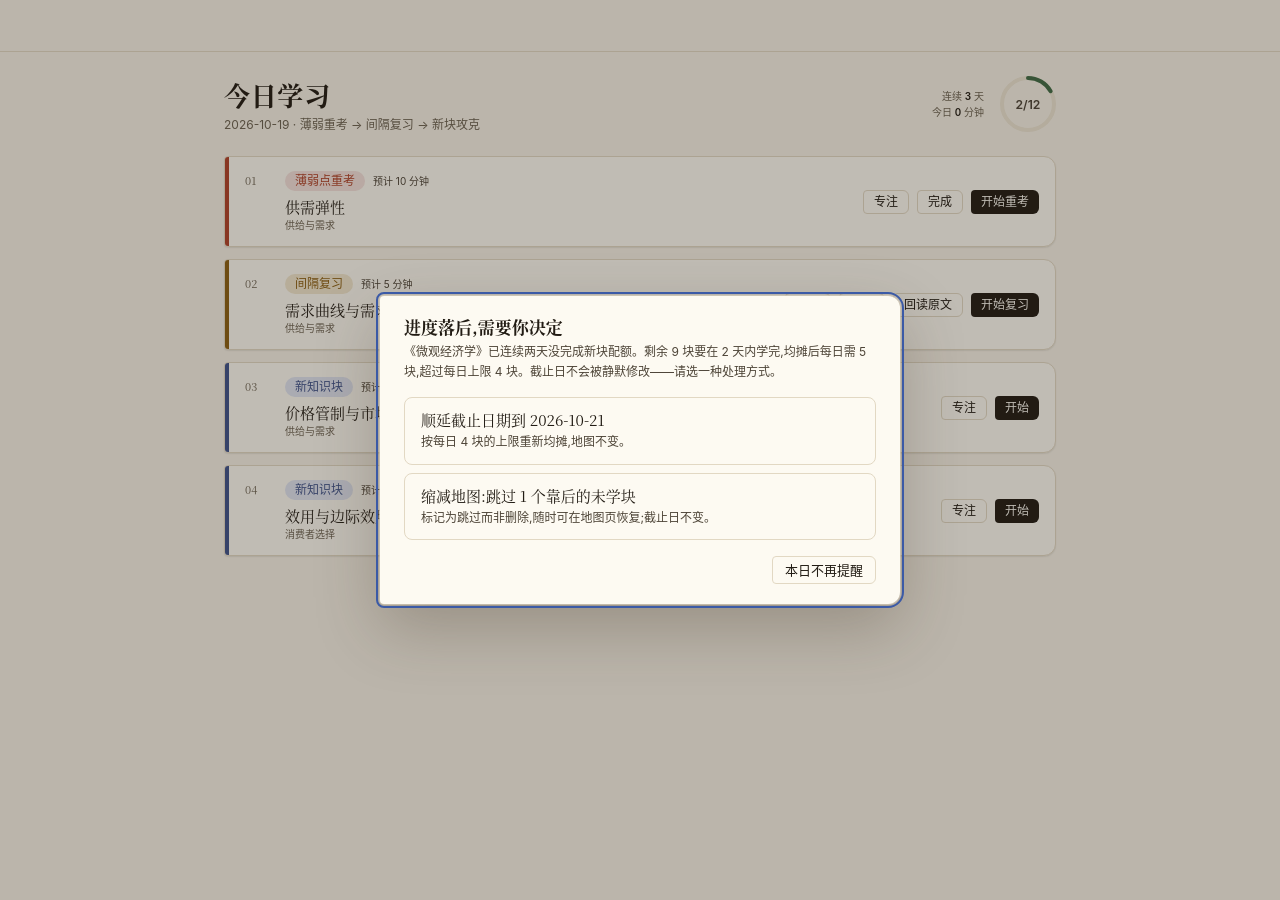
Test: 落后重排确认(M2 T4) › 本日不再提醒:只记偏好,不改计划,弹窗关闭
The image size is (1280, 900).
Step 1. Click the button "本日不再提醒" → point(824, 570), box left=772, top=556, right=876, bottom=584
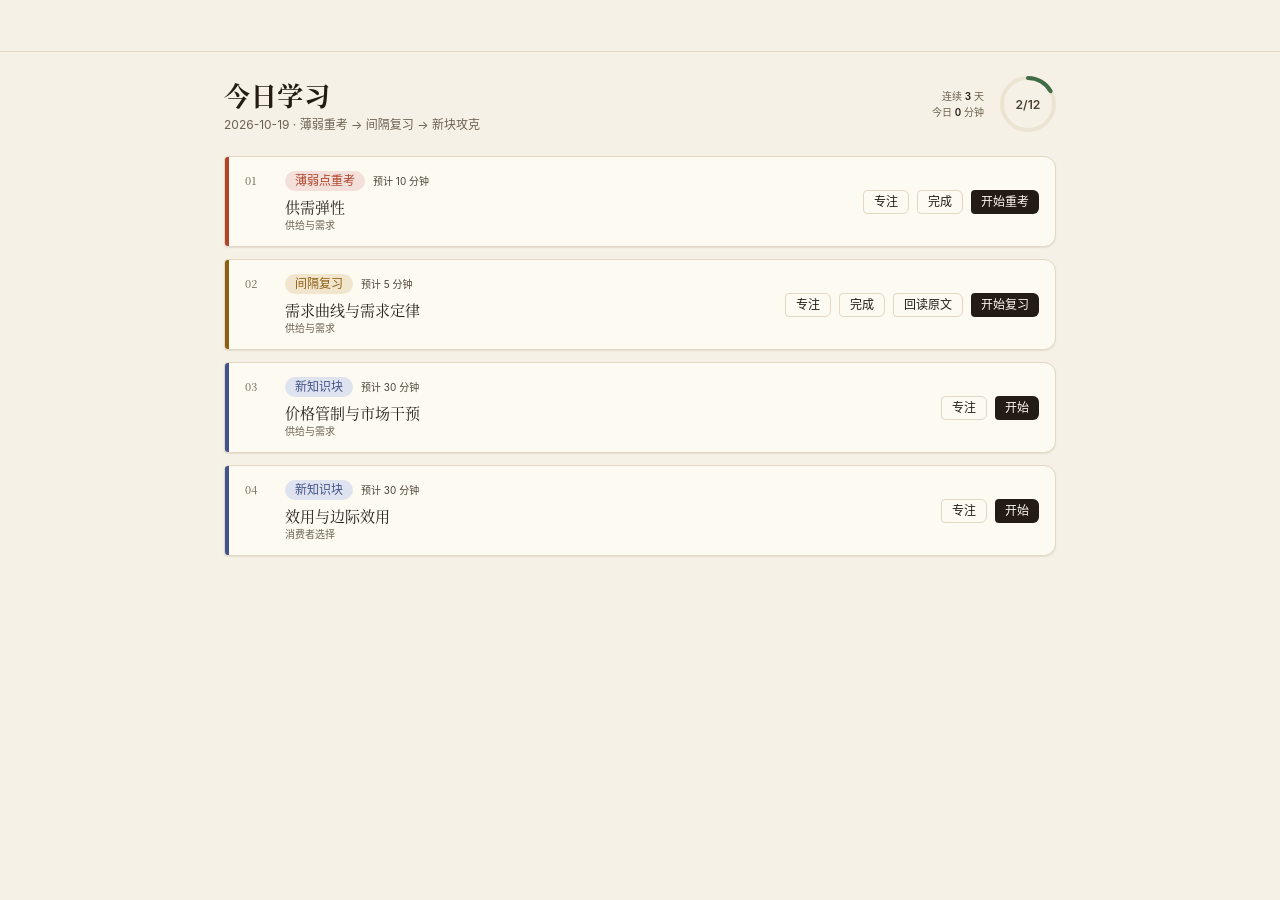
Expected: the dialog is gone
